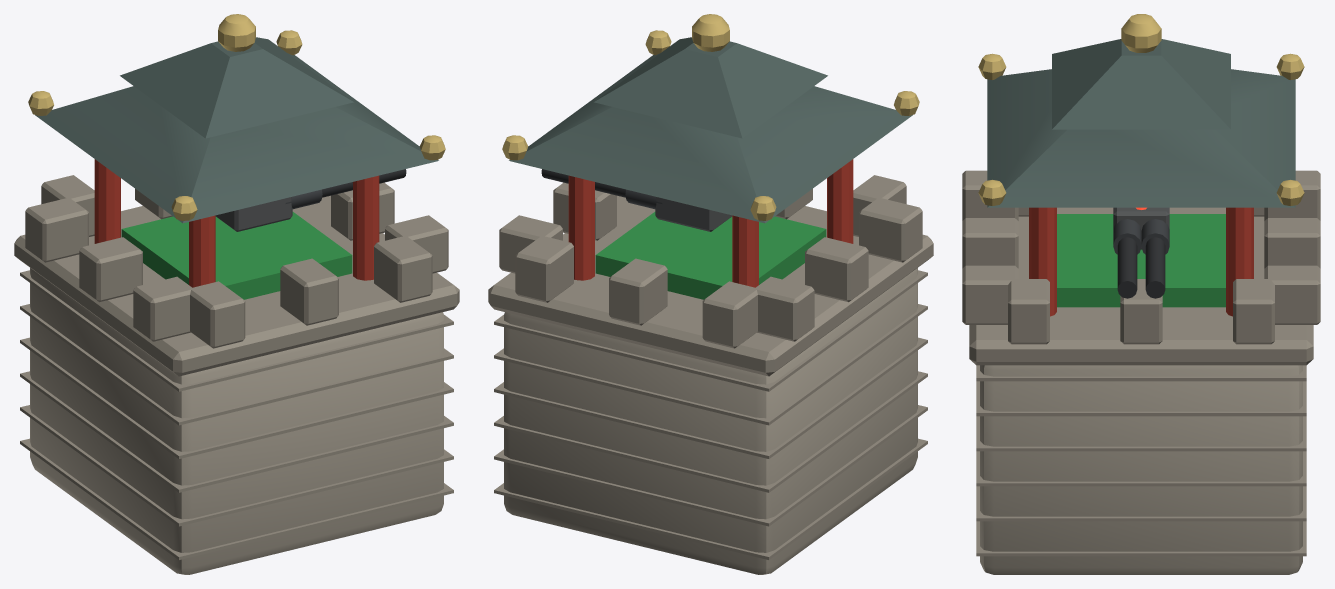
The model's file is gtower.glb.
3 views of the same model, side by side, from view 1: azimuth 30°, elevation 25°; view 2: azimuth 150°, elevation 25°; view 3: azimuth 270°, elevation 25° (orthographic). The views are drawn at different scales.
Parts seen in each view (by area): view 1: Gtower_Walls, Gtower_Details, Gtower_Frame, Gtower_head; view 2: Gtower_Walls, Gtower_Details, Gtower_Frame, Gtower_head; view 3: Gtower_Walls, Gtower_Details, Gtower_Frame, Gtower_head.
Boxes of the visible parts, bbox=[...] form: Gtower_Walls: bbox=[14, 37, 459, 574]; Gtower_Details: bbox=[20, 14, 453, 559]; Gtower_Frame: bbox=[94, 159, 379, 287]; Gtower_head: bbox=[215, 169, 406, 231]; Gtower_Walls: bbox=[488, 37, 933, 574]; Gtower_Details: bbox=[494, 14, 927, 559]; Gtower_Frame: bbox=[568, 159, 853, 287]; Gtower_head: bbox=[541, 169, 732, 231]; Gtower_Walls: bbox=[969, 39, 1313, 574]; Gtower_Details: bbox=[962, 14, 1320, 556]; Gtower_Frame: bbox=[1029, 207, 1253, 316]; Gtower_head: bbox=[1113, 207, 1169, 298].
Size of the model in its own units: 1.05 by 1.56 by 1.02.
